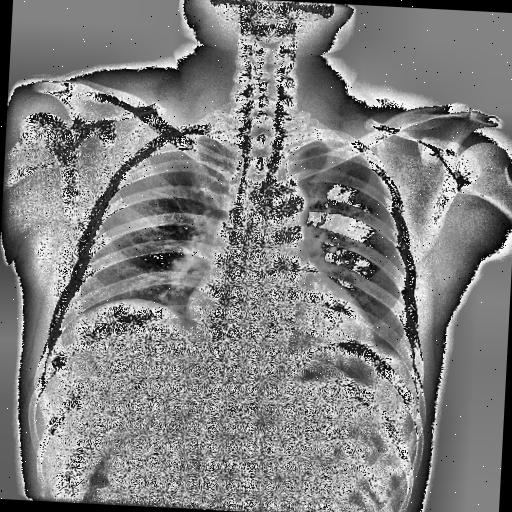0- Aortic enlargement: (262, 176, 313, 240), (264, 179, 308, 233)
3- Cardiomegaly: (182, 279, 379, 349), (188, 274, 376, 347), (182, 290, 378, 358)
